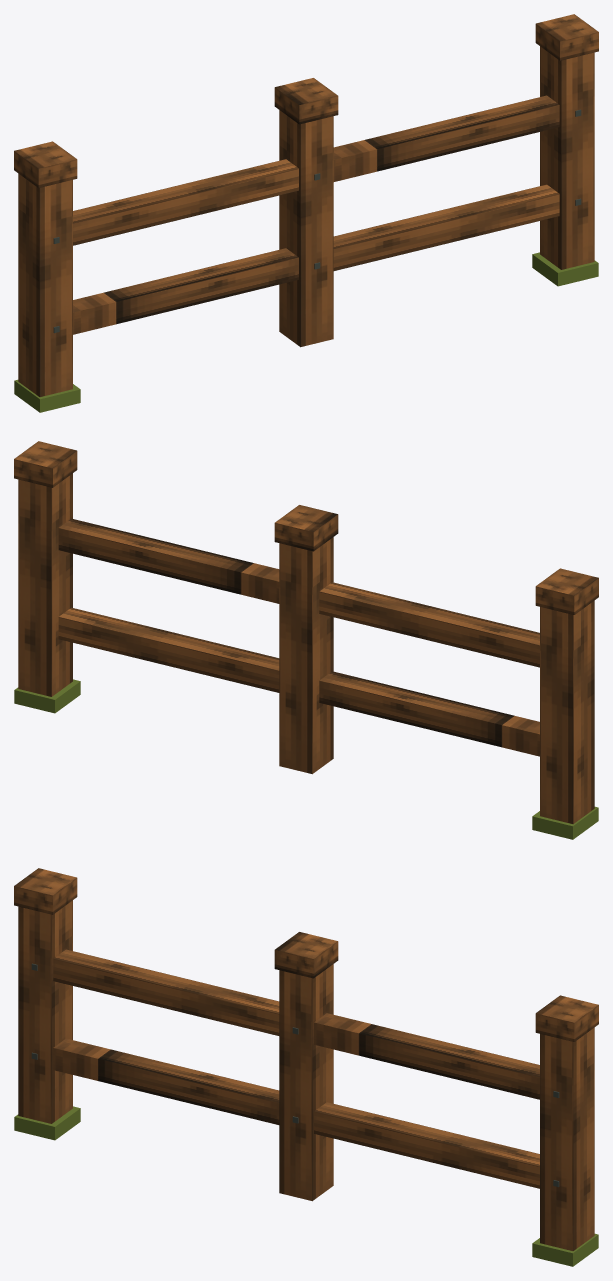
Rendered from SM_HP_Fence_LOD1.fbx.
The picture shows the model from 3 angles, top to bottom: view 1: azimuth 30°, elevation 25°; view 2: azimuth 150°, elevation 25°; view 3: azimuth 330°, elevation 25°; orthographic projection.
Visible parts, largest first — view 1: SM_HP_Fence_LOD1; view 2: SM_HP_Fence_LOD1; view 3: SM_HP_Fence_LOD1.
Part boxes in pixels (bbox=[...]): SM_HP_Fence_LOD1: bbox=[14, 14, 598, 412]; SM_HP_Fence_LOD1: bbox=[14, 441, 598, 839]; SM_HP_Fence_LOD1: bbox=[14, 868, 598, 1266].
Size of the model in its own units: 3.03 by 0.24 by 1.26.
3 materials, 1 textured.
